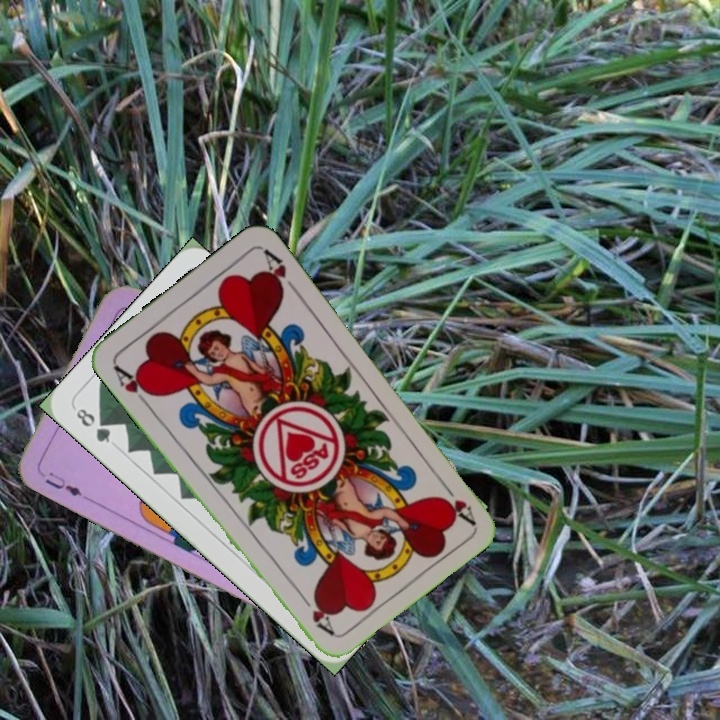EU: (41, 467, 85, 499)
G8: (72, 404, 114, 446)
HA: (109, 360, 156, 410), (435, 475, 478, 527)
